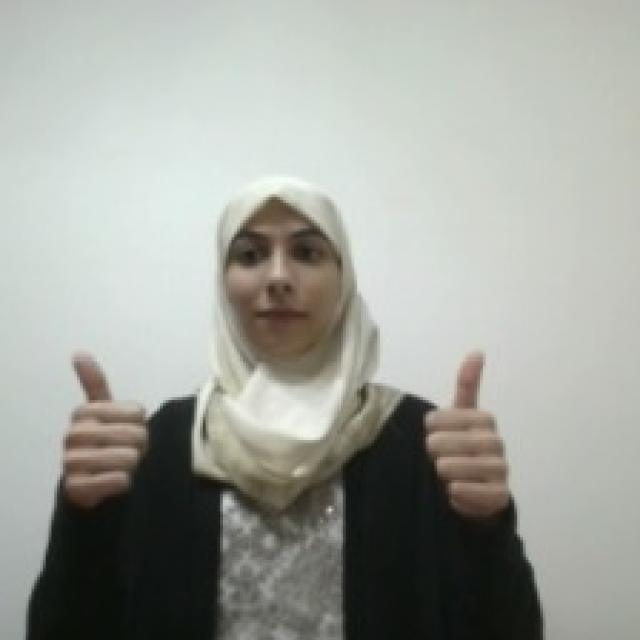fine: (421, 341, 515, 519), (56, 344, 153, 512)
